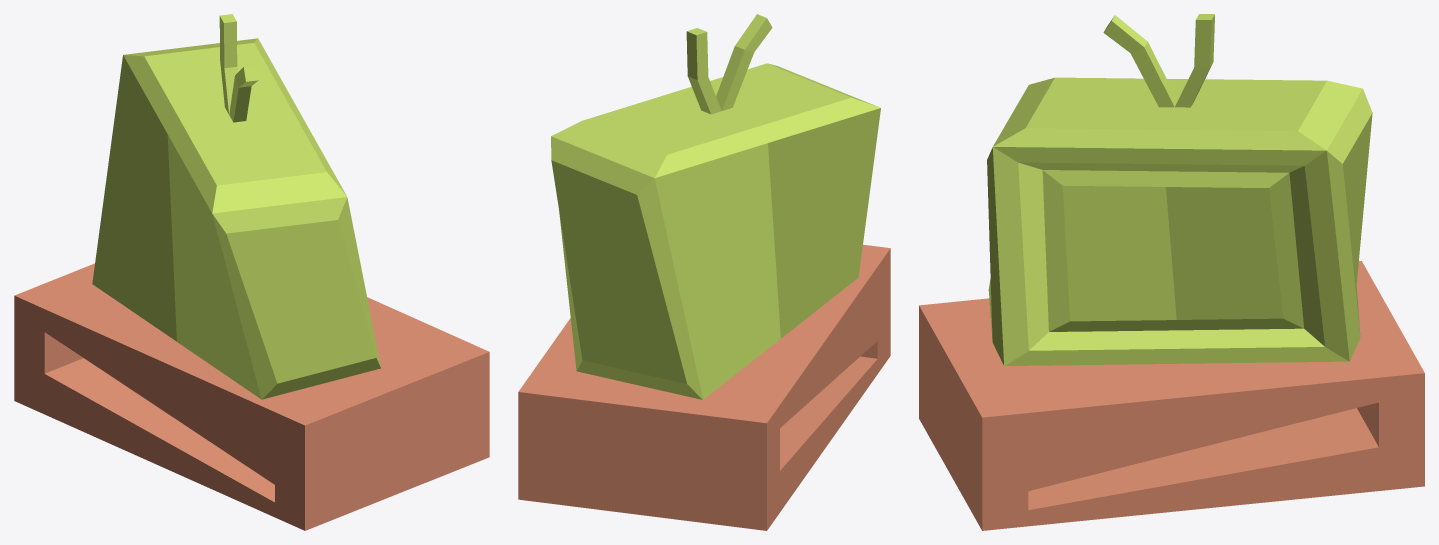
File: Télé+TV.fbx
3 views of the same model, side by side, from view 1: azimuth 30°, elevation 25°; view 2: azimuth 150°, elevation 25°; view 3: azimuth 270°, elevation 25° (orthographic). The views are drawn at different scales.
Visible parts, largest first — view 1: Table+TV; view 2: Table+TV; view 3: Table+TV.
Part boxes in pixels (box(x1,y1,x2,y2)): Table+TV: box(14, 14, 489, 530); Table+TV: box(518, 14, 890, 530); Table+TV: box(919, 14, 1424, 530).
Size of the model in its own units: 255 by 328 by 348.
